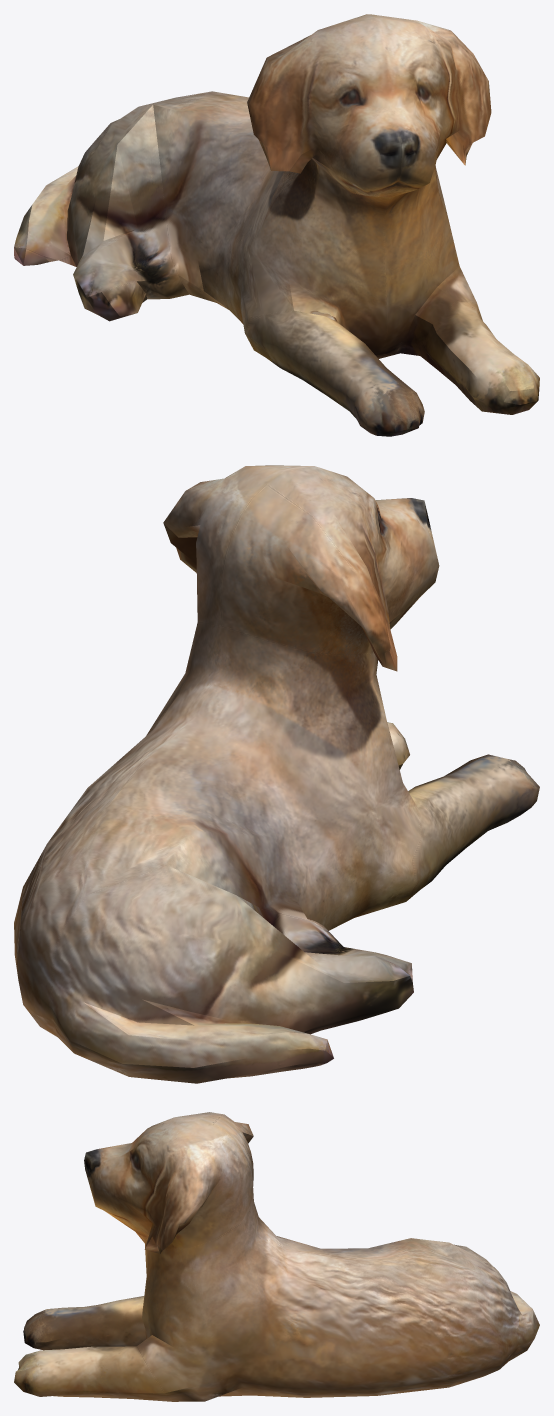
Rendered from golden_labrador_laying_down.glb.
3 views of the same model, one above another, from view 1: azimuth 30°, elevation 25°; view 2: azimuth 150°, elevation 25°; view 3: azimuth 270°, elevation 25° (orthographic). The views are drawn at different scales.
Visible parts, largest first — view 1: groupdelete3; view 2: groupdelete3; view 3: groupdelete3.
Boxes of the visible parts, left/top/right/bottom form: groupdelete3: left=14, top=14, right=539, bottom=436; groupdelete3: left=14, top=465, right=539, bottom=1083; groupdelete3: left=14, top=1112, right=539, bottom=1401.
Size of the model in its own units: 0.2682 by 0.2813 by 0.5072.
Materials: 1 (1 with a texture image).
